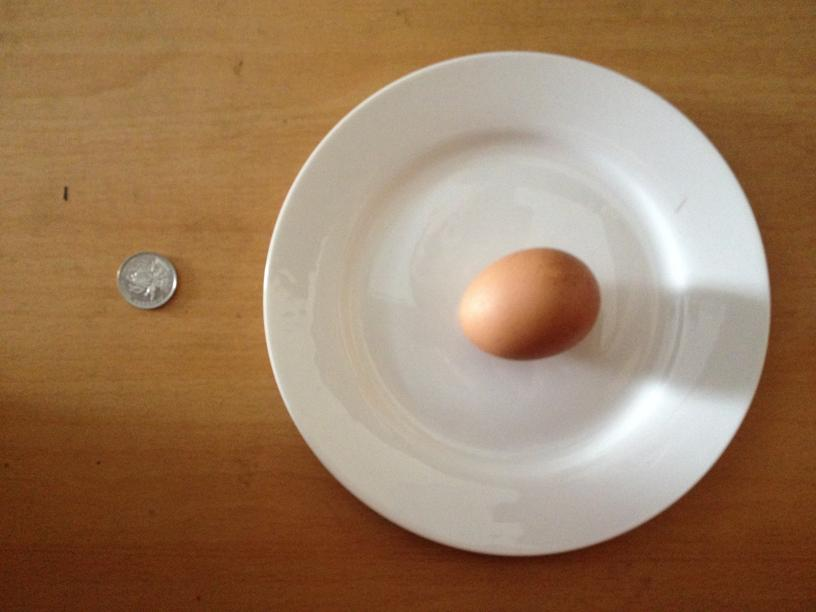coin: (116, 250, 178, 309)
egg: (458, 245, 601, 360)
